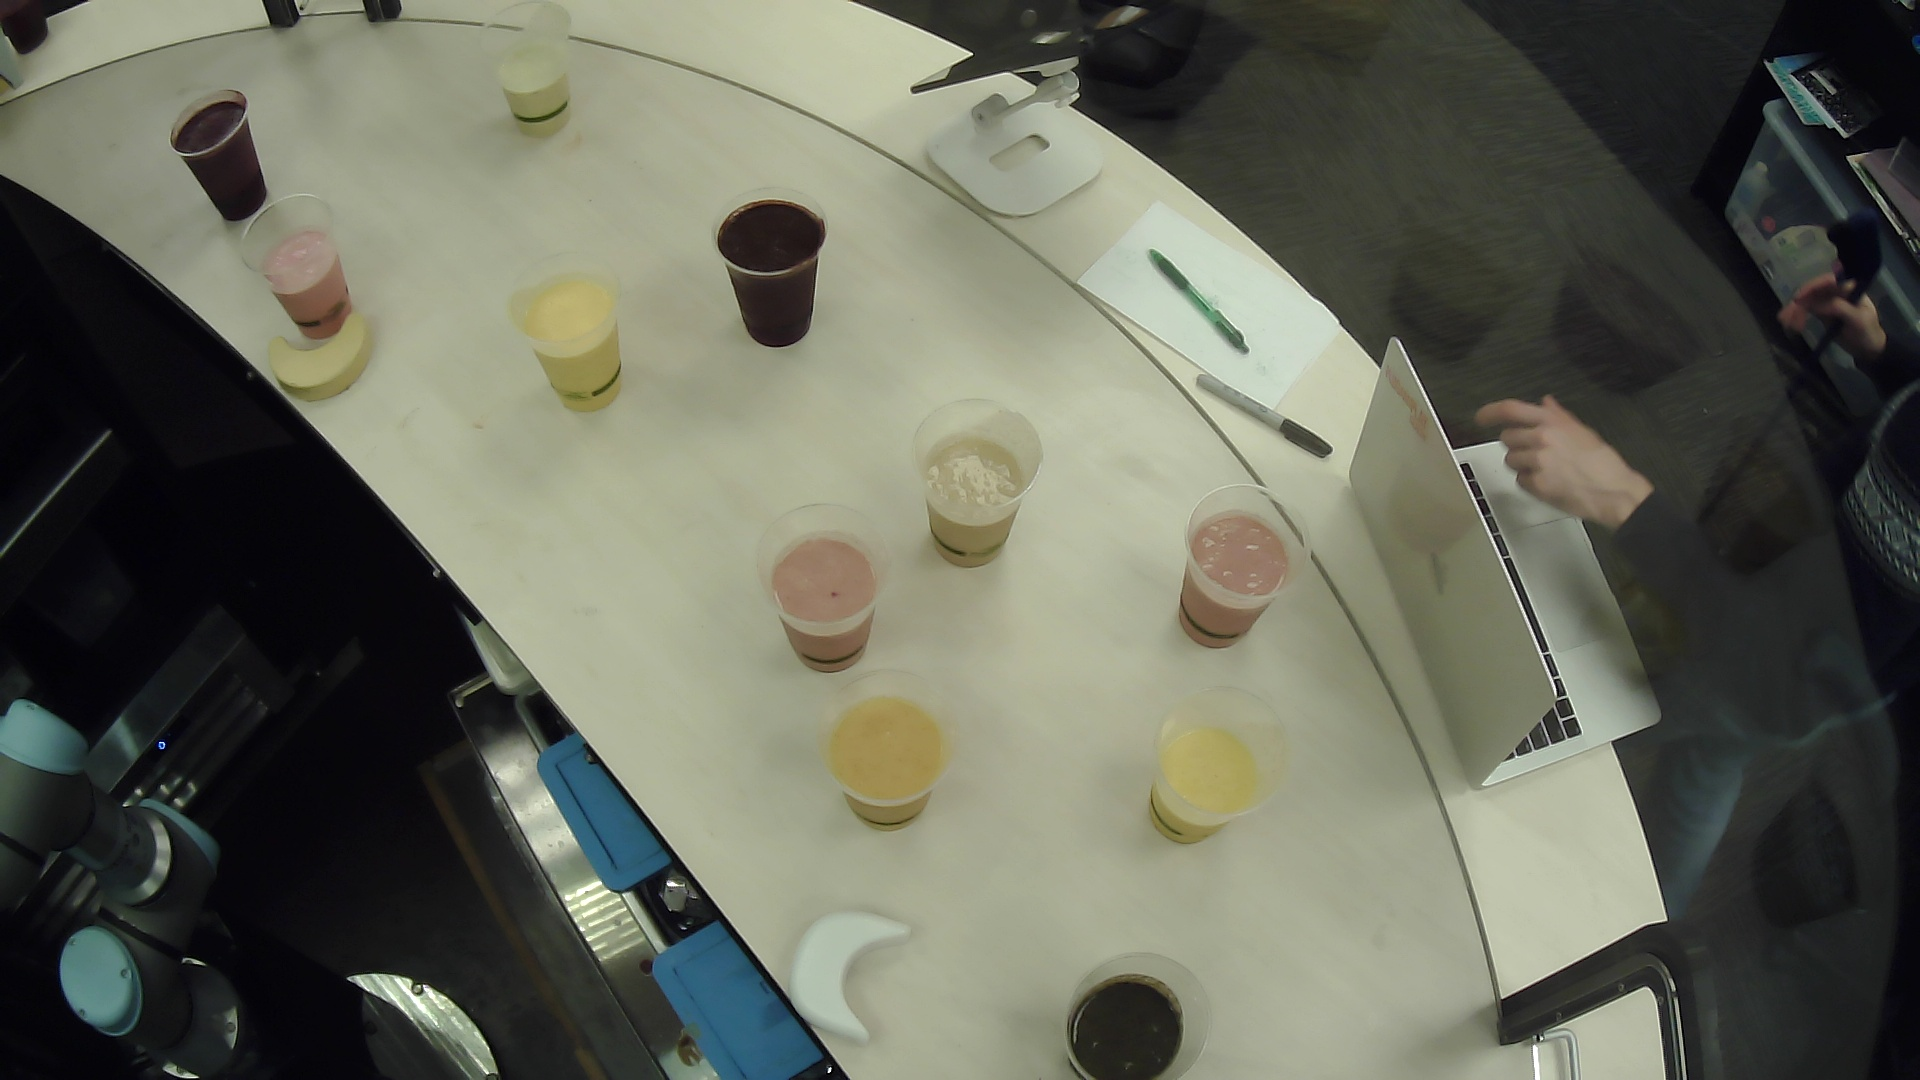Deliver: (775, 906, 926, 1056), (251, 303, 386, 410)
Full_cup: (1131, 655, 1298, 866), (815, 651, 982, 860), (898, 371, 1050, 593), (729, 491, 903, 684), (1163, 469, 1323, 669), (488, 232, 647, 429), (696, 177, 839, 375), (1044, 942, 1232, 1080), (228, 191, 377, 355), (455, 1, 605, 146), (164, 75, 281, 237)
